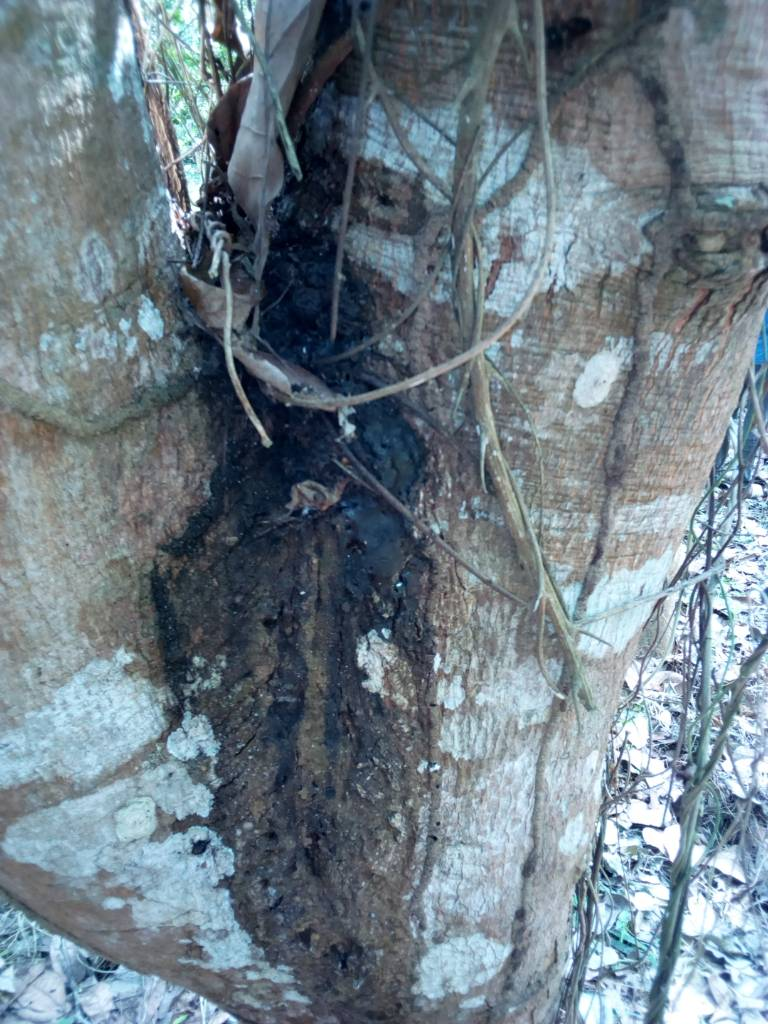Gommose: (154, 510, 460, 994)
